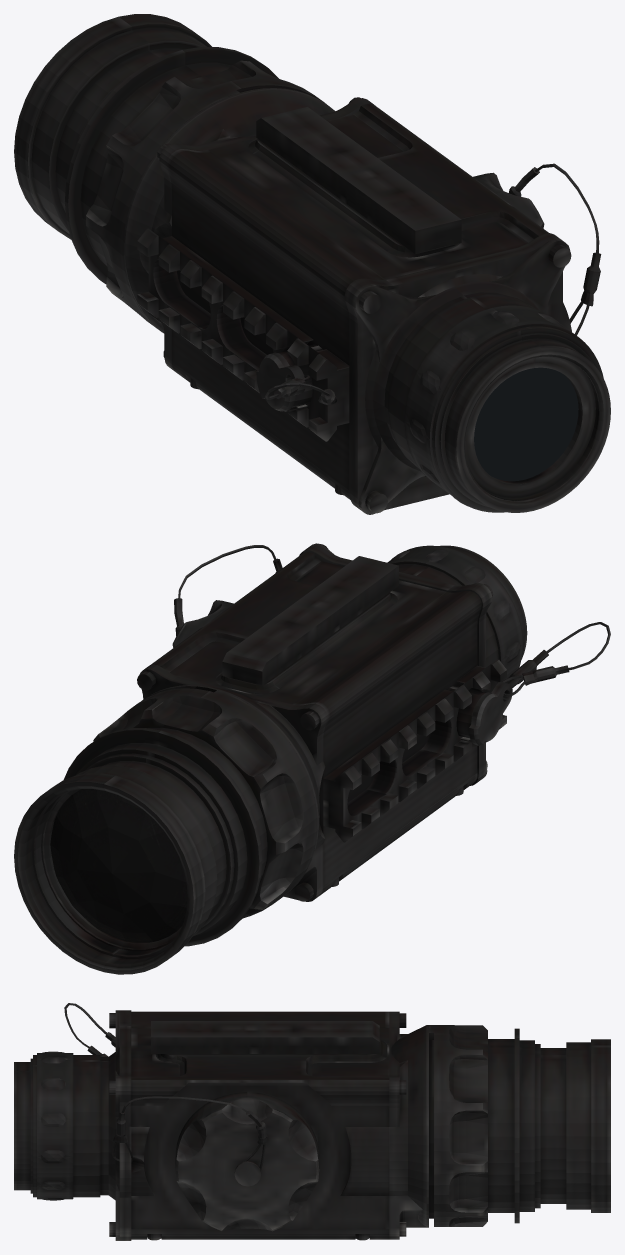
3 views of the same model, one above another, from view 1: azimuth 30°, elevation 25°; view 2: azimuth 150°, elevation 25°; view 3: azimuth 270°, elevation 25° (orthographic). The views are drawn at different scales.
Parts seen in each view (by area): view 1: TW_63fc44e2429a8a166c7f61e6_PZ_Import; view 2: TW_63fc44e2429a8a166c7f61e6_PZ_Import; view 3: TW_63fc44e2429a8a166c7f61e6_PZ_Import.
Part boxes in pixels (x1=…): TW_63fc44e2429a8a166c7f61e6_PZ_Import: x1=14, y1=14, x2=610, y2=514; TW_63fc44e2429a8a166c7f61e6_PZ_Import: x1=14, y1=543, x2=610, y2=974; TW_63fc44e2429a8a166c7f61e6_PZ_Import: x1=14, y1=1003, x2=610, y2=1240.
Bounding box in the file's own units: 0.0608 × 0.112 × 0.0391.
1 material, 1 textured.
